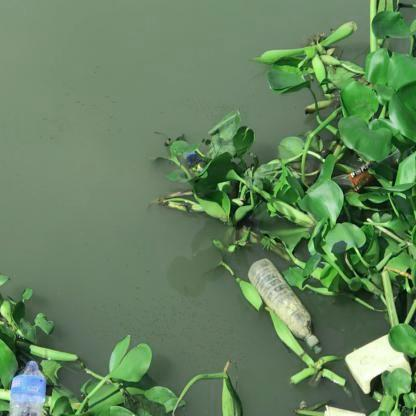Plastic: (244, 252, 324, 358), (7, 353, 53, 415)
Trash: (335, 156, 381, 197), (182, 144, 209, 182)
